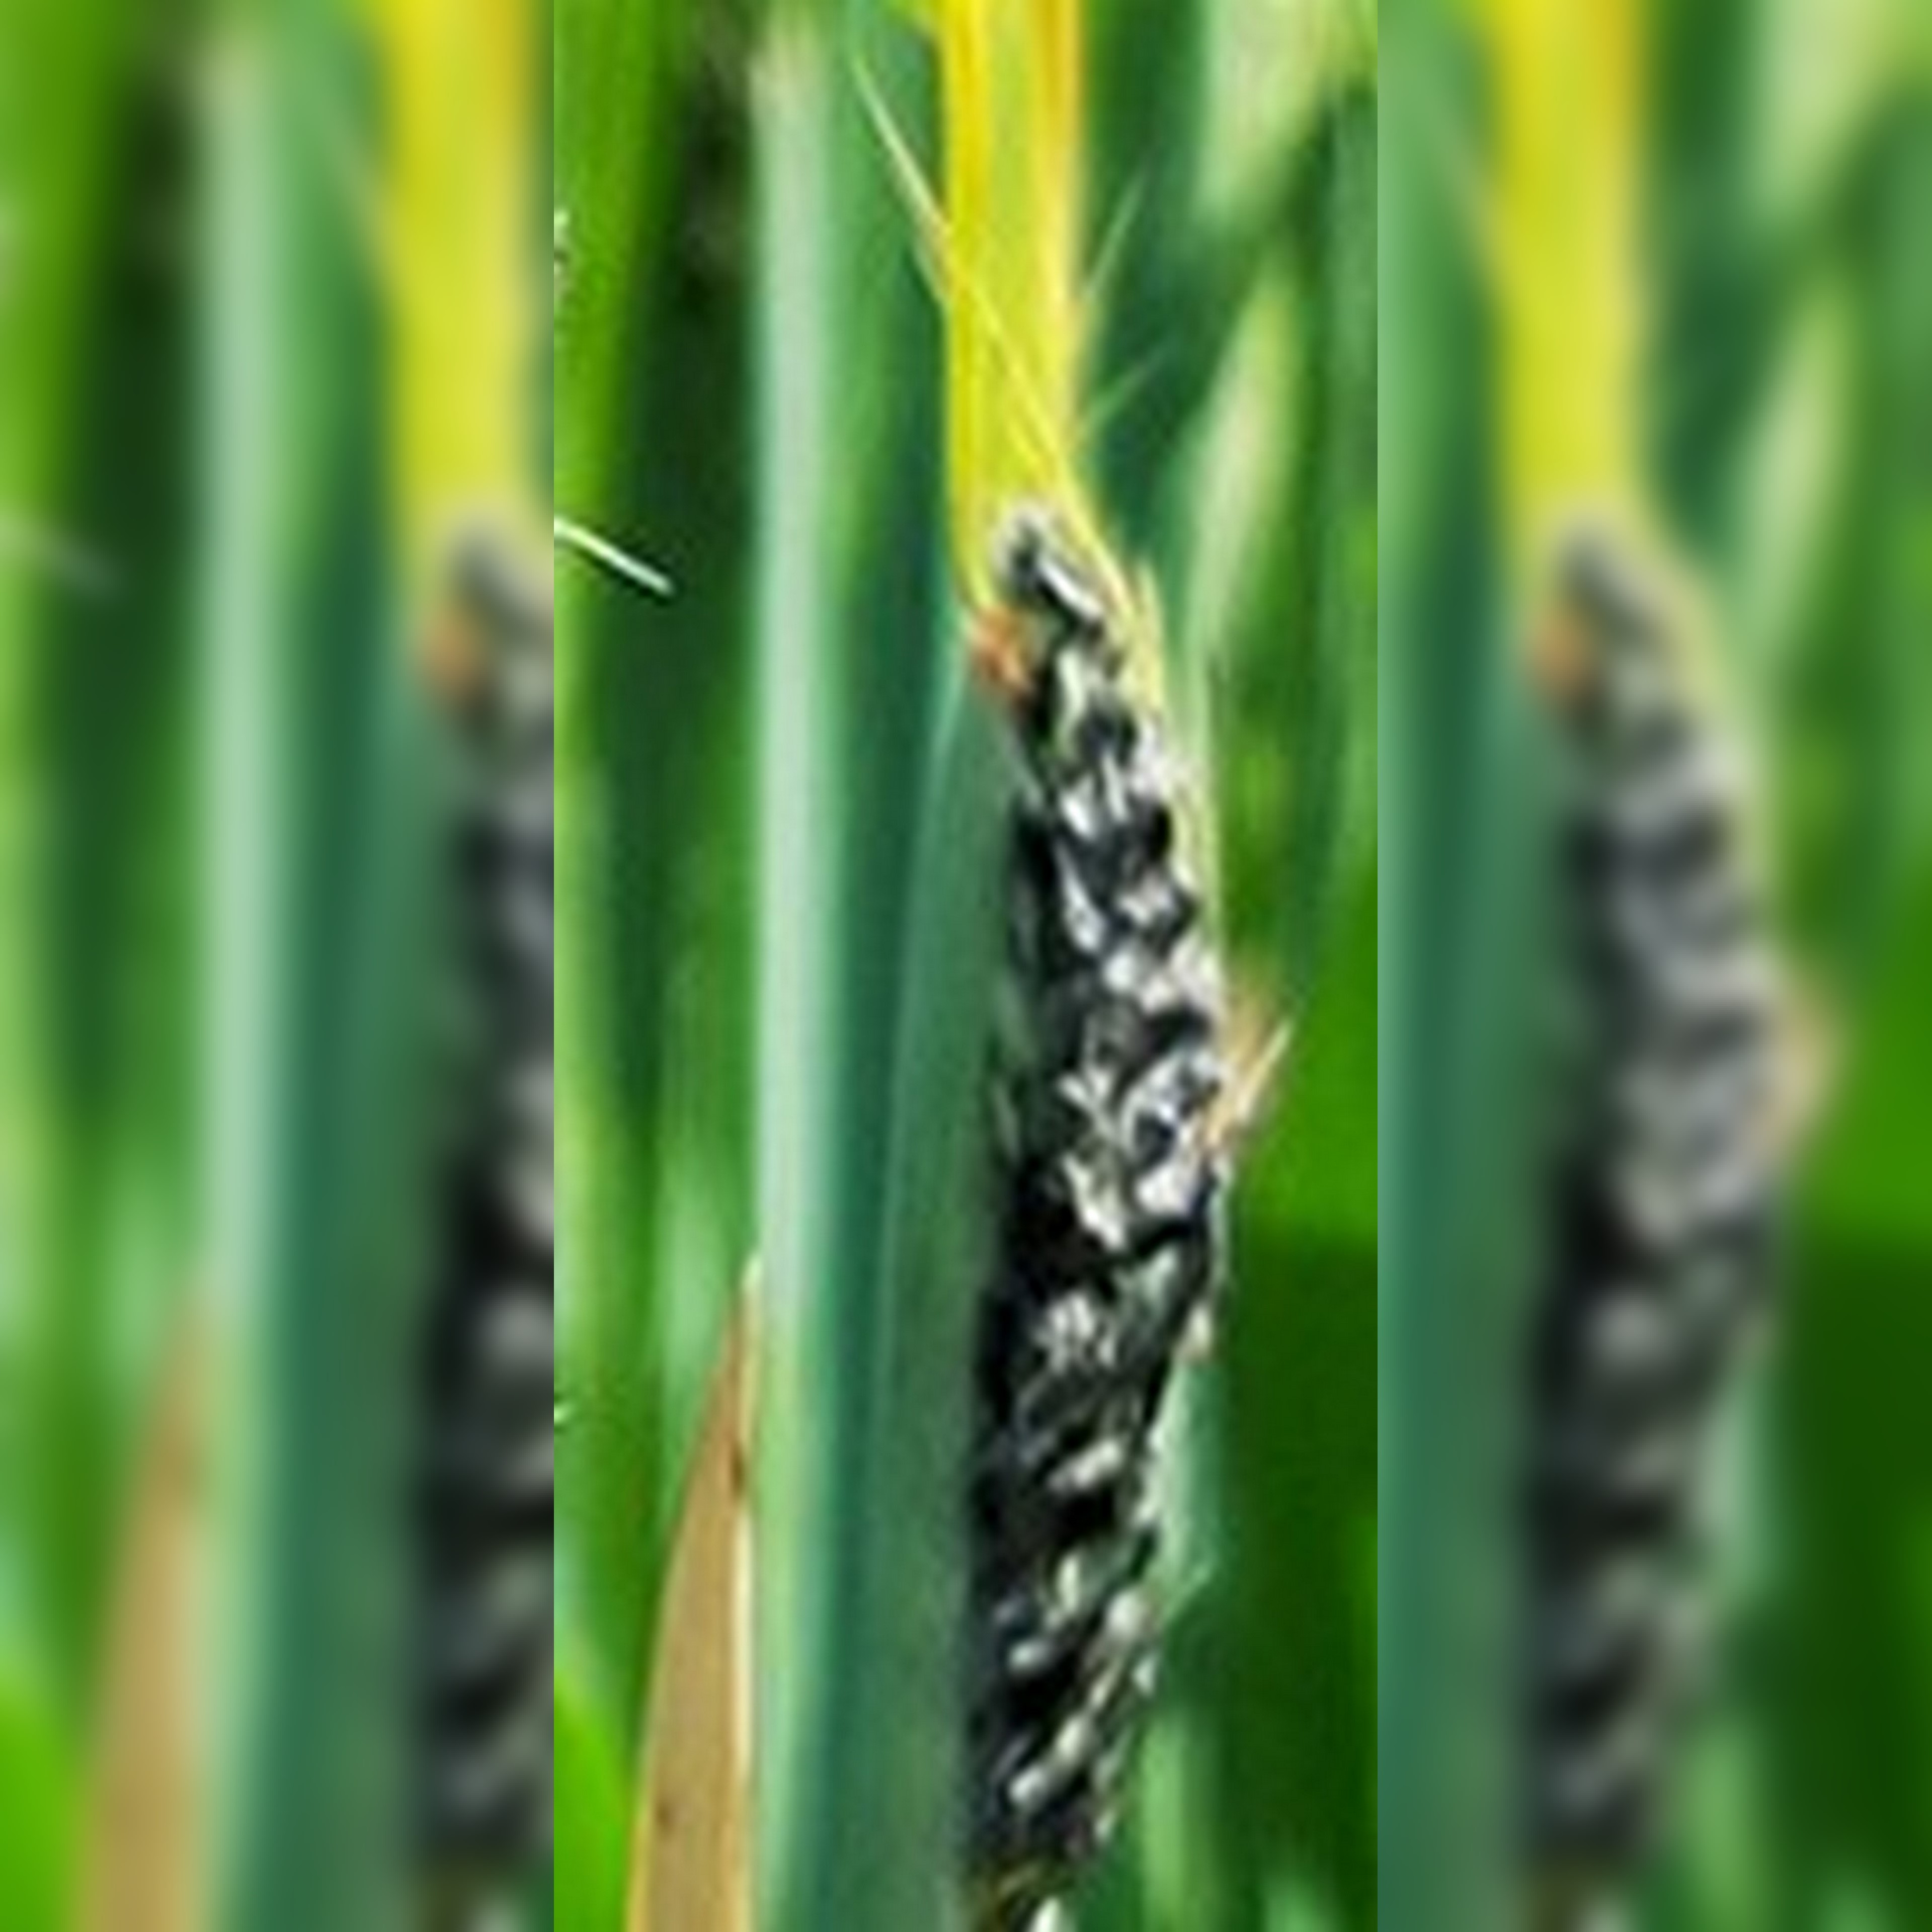Wheat Loose Smut: (876, 446, 1299, 1932)
